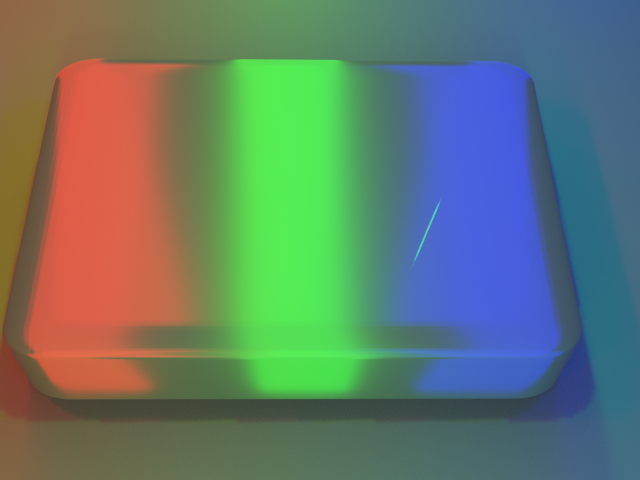scratch: (211, 104, 613, 374)
